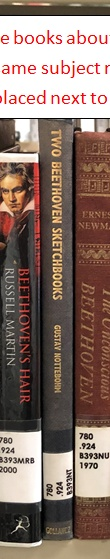call_number: (0, 431, 41, 503), (74, 427, 110, 497), (43, 453, 73, 500)
